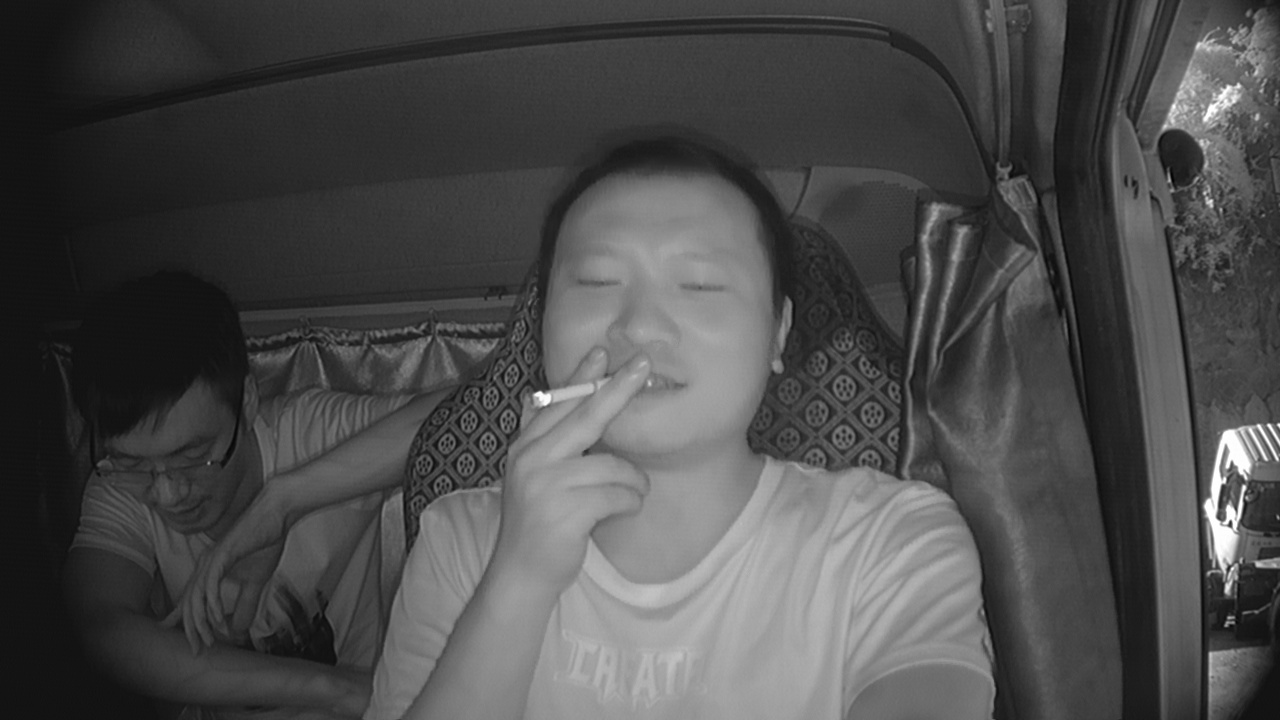hand: (509, 350, 658, 537)
